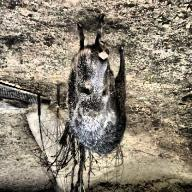boar: (63, 20, 140, 158)
